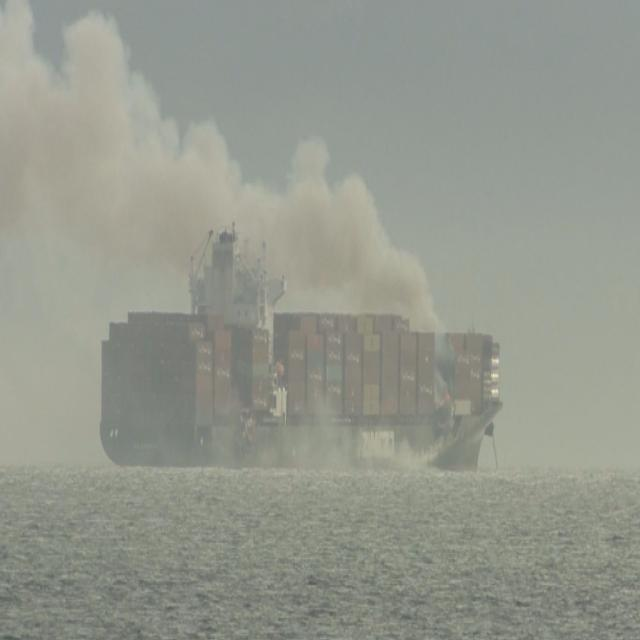cargoship: (100, 223, 500, 477)
